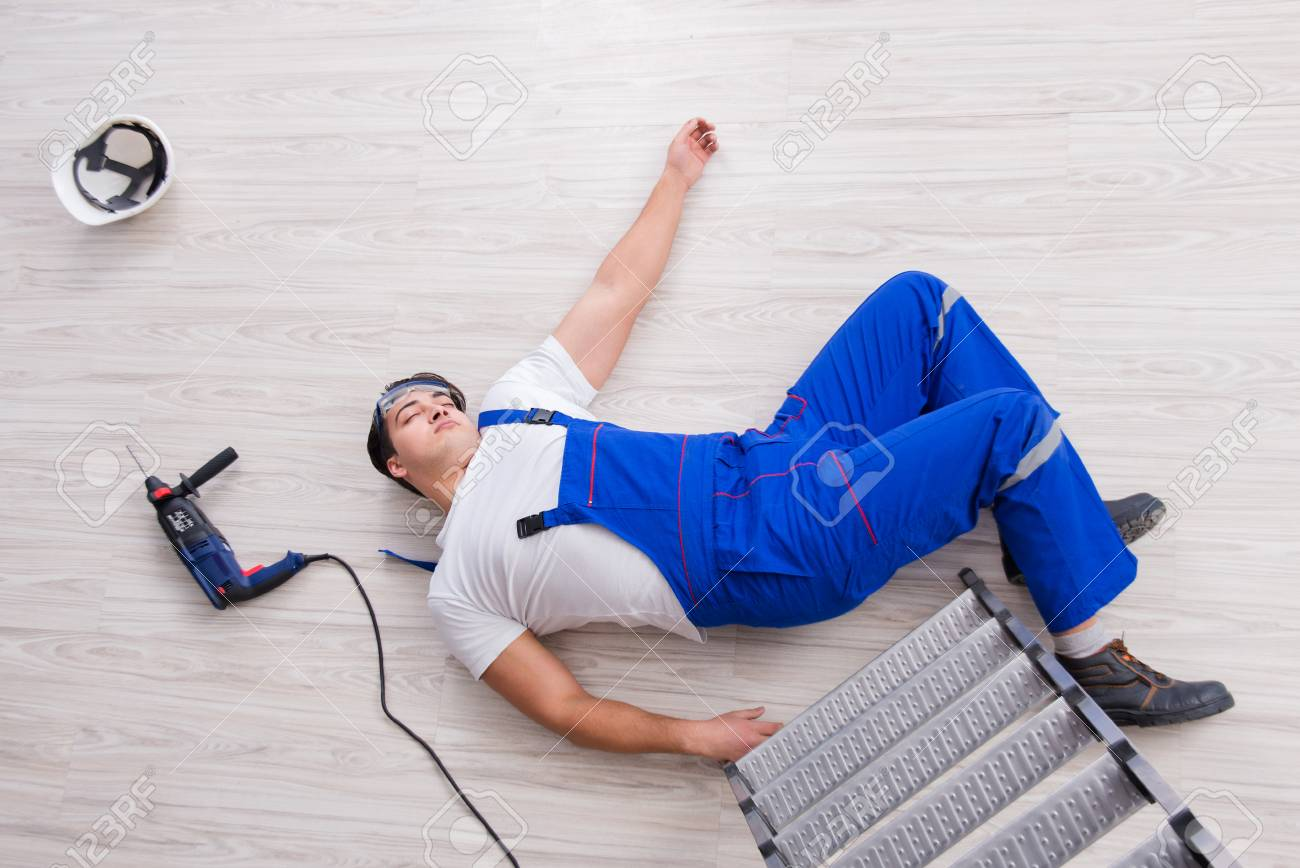collapsed: (9, 234, 1252, 759)
